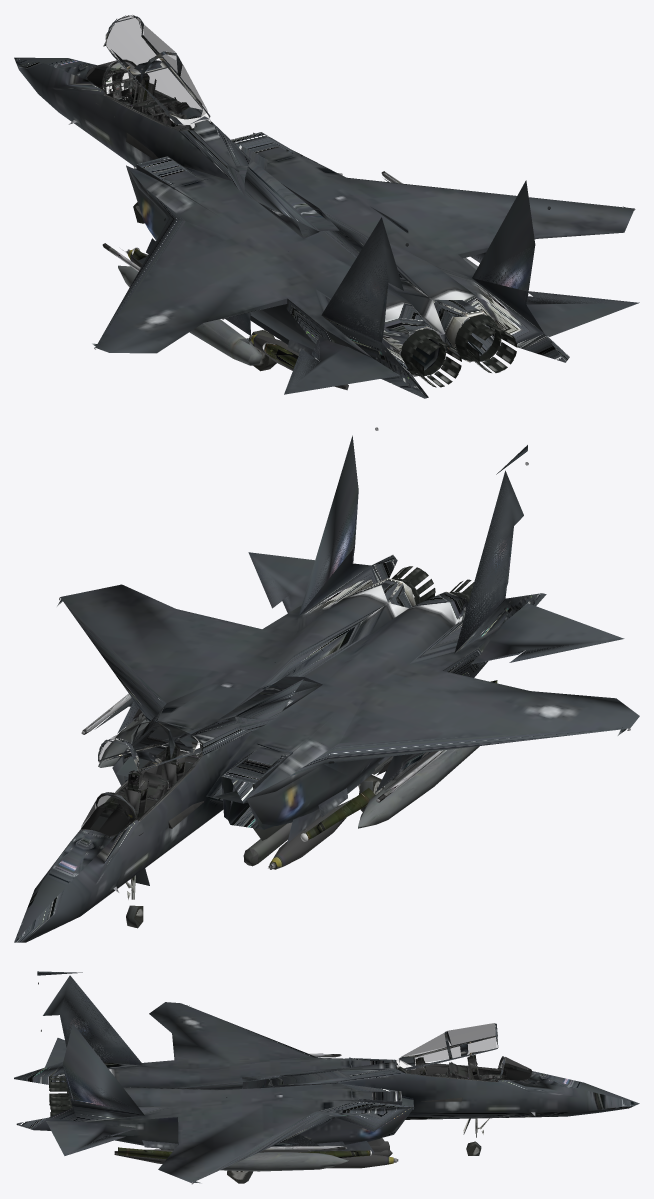
File: jet_lo.glb
3 views of the same model, one above another, from view 1: azimuth 30°, elevation 25°; view 2: azimuth 150°, elevation 25°; view 3: azimuth 270°, elevation 25° (orthographic). The views are drawn at different scales.
Bounding box in the file's own units: 1296 × 568 × 1901.
Materials: 14 (11 with a texture image).
